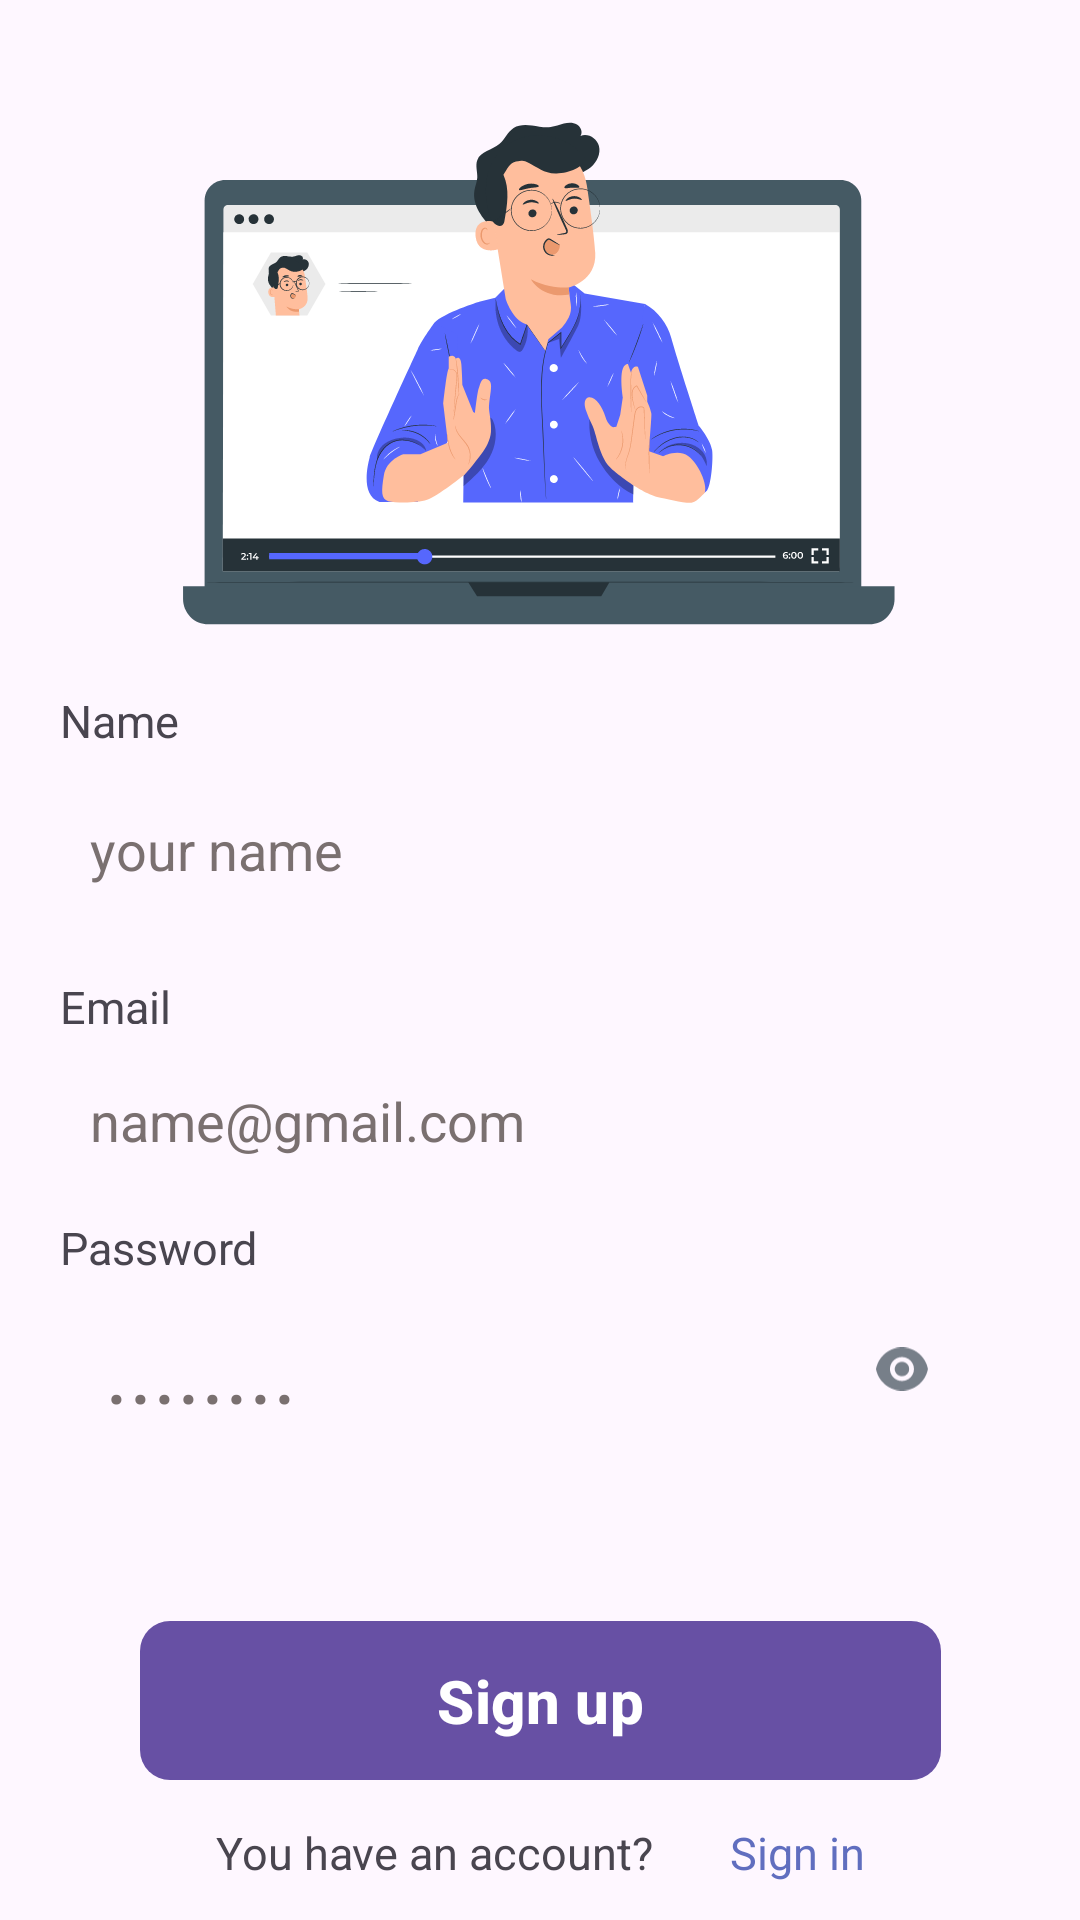

Icons on this 1080 x 1920 Android screen, each with its box as bbox=[x1, y1, x2, y2]:
password: bbox=[876, 1347, 928, 1391]
